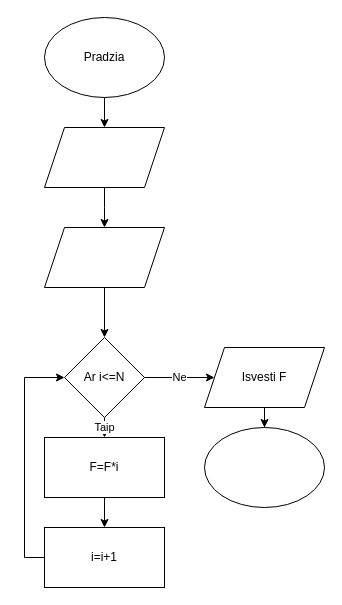
Some shapes in this 342 by 605 pixel diagram are drawn without their labels. Here are the shapes that lost their labels. From the top down, the centre of each, then its label:
the point at 104,157: Ivesti naturaluji skaiciu N
the point at 104,257: F=1 ; i=1
the point at 264,467: Pabaiga
